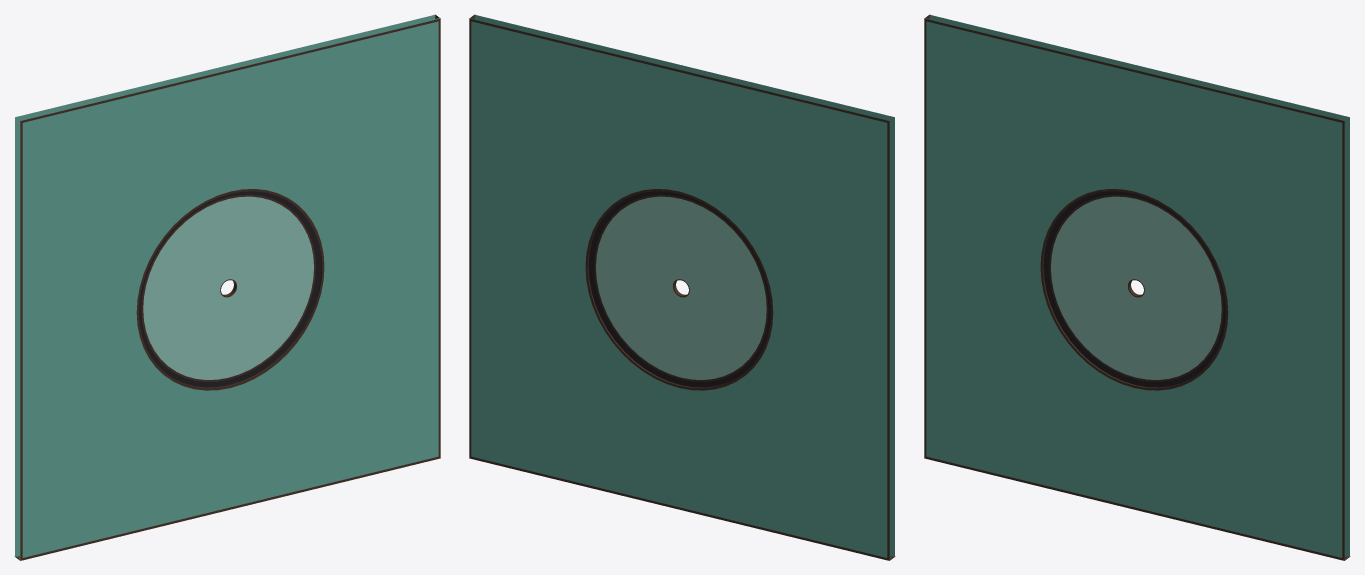
File: Teal.glb
The picture shows the model from 3 angles, left to right: view 1: azimuth 30°, elevation 25°; view 2: azimuth 150°, elevation 25°; view 3: azimuth 330°, elevation 25°; orthographic projection.
Parts seen in each view (by area): view 1: Sleeve, Record; view 2: Sleeve, Record; view 3: Sleeve, Record.
Part boxes in pixels (x1,y1,x2,y2): Sleeve: (14,14,440,560); Record: (139,191,321,387); Sleeve: (469,14,895,560); Record: (588,191,770,387); Sleeve: (924,14,1350,560); Record: (1043,191,1225,387).
Bounding box in the file's own units: 0.188 × 0.188 × 0.0048.
